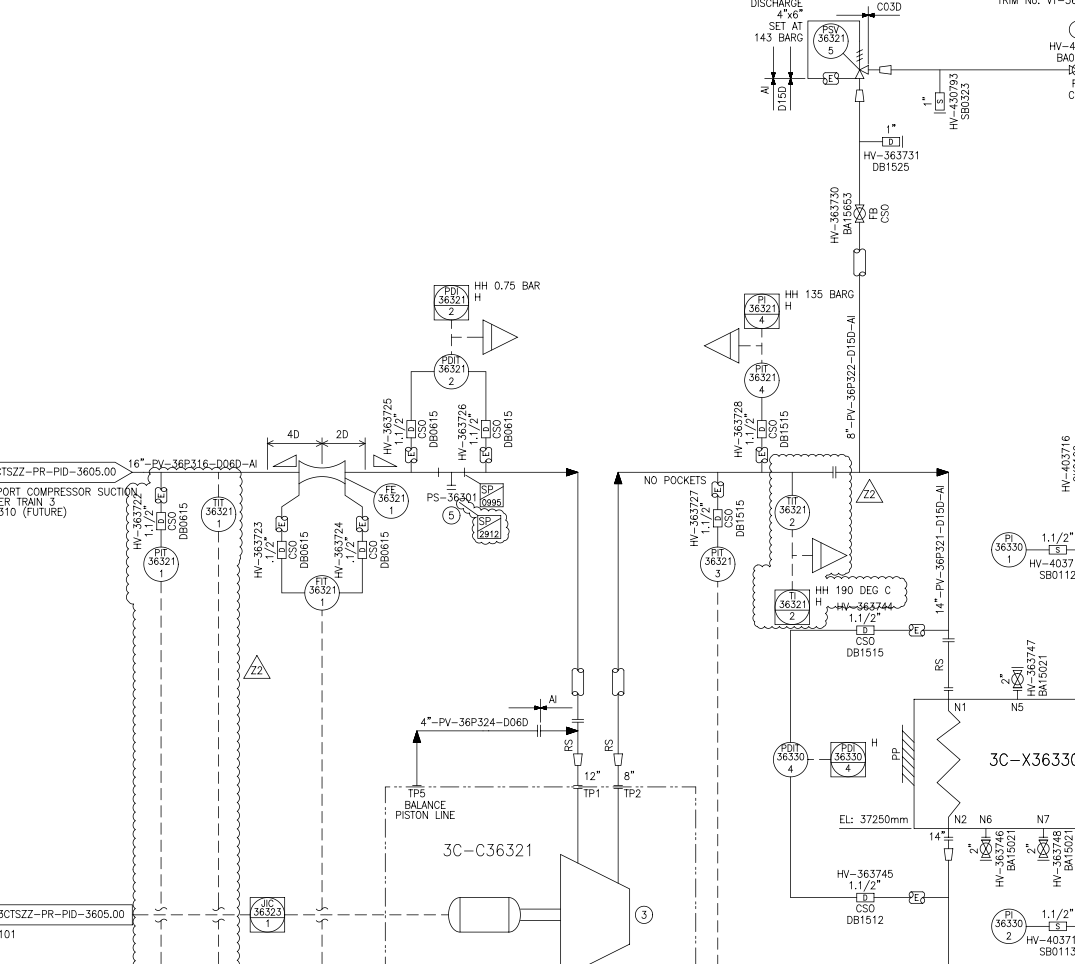Instrument: (426, 348, 473, 395), (987, 525, 1031, 574), (300, 570, 345, 616), (770, 488, 816, 533), (367, 481, 416, 523), (981, 906, 1029, 946), (810, 19, 852, 63), (771, 737, 812, 781), (198, 489, 239, 533), (741, 362, 787, 401), (697, 544, 739, 586), (141, 544, 180, 584)
Instrument-square: (737, 287, 784, 334), (245, 890, 290, 939), (426, 278, 472, 325), (767, 584, 812, 628), (827, 736, 869, 782)
